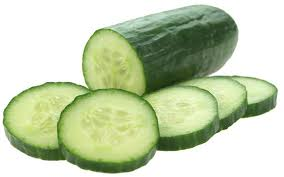cucumber: (6, 5, 276, 170)
